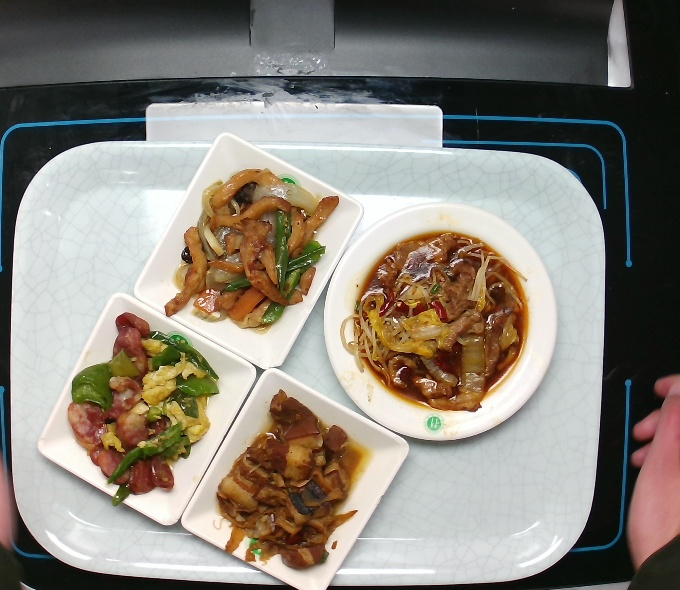wcq-HongShaoRou: (216, 389, 364, 570)
wcq-QingJiaoJiDanChaoDaChang: (65, 311, 221, 509)
wcq-QingJiaoRouSi: (164, 165, 340, 334)
wcq-ShuiZhuRouPian: (354, 227, 529, 412)
